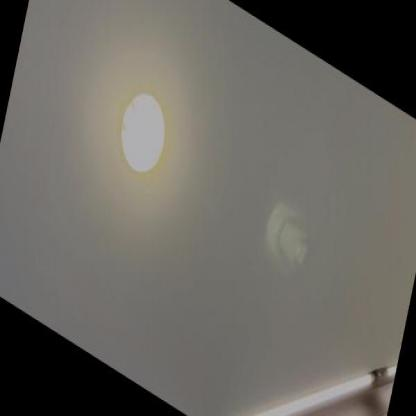light_on: (208, 286, 379, 414), (110, 60, 184, 200), (382, 354, 398, 388)
